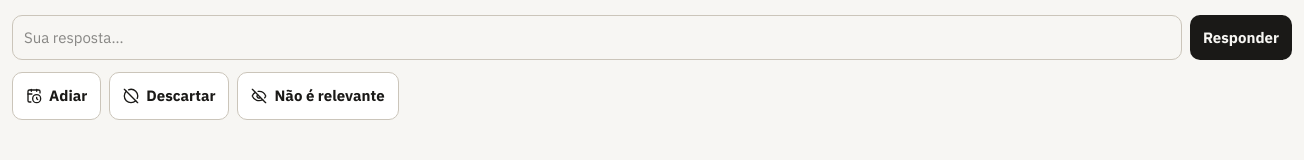
Test case: QuestionAnswerForm › dismisses through the resolution contract and shows the dismissal undo control
Click the button "Descartar".
click(169, 96)  # box [109,72,230,120]
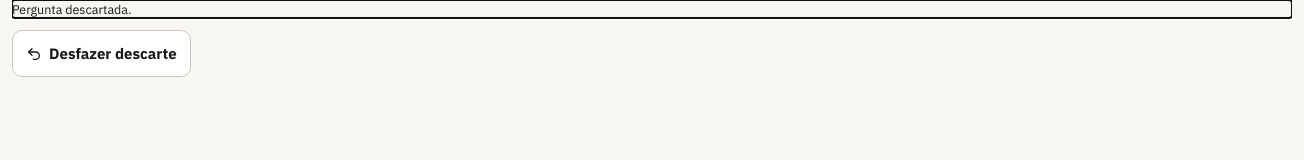
Now the message reads "Pergunta descartada.", box [12,1,132,17]
Now the button "Desfazer descarte" is shown, box [12,30,191,77]
Now the field is gone
